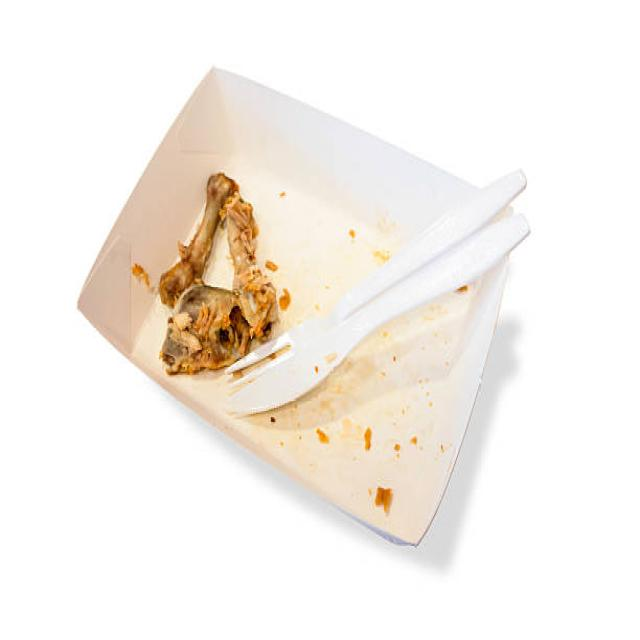Bones: (158, 173, 238, 306), (160, 282, 276, 373), (221, 195, 276, 337)
